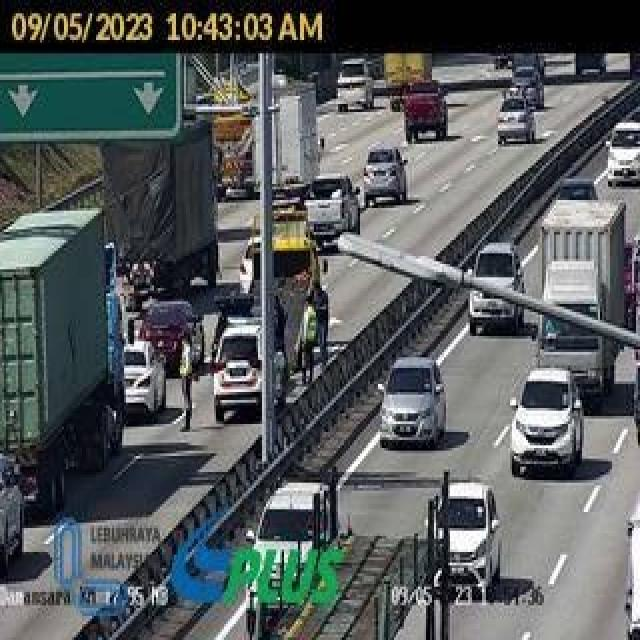Car: (242, 472, 342, 624), (208, 315, 285, 433), (512, 365, 588, 484), (428, 482, 500, 597), (377, 354, 454, 447), (463, 238, 524, 333), (142, 292, 202, 379), (299, 172, 363, 249), (114, 337, 168, 419), (362, 147, 408, 214), (335, 48, 378, 116), (604, 118, 640, 190), (3, 448, 22, 576), (503, 66, 553, 110), (494, 101, 536, 152)
Truck: (0, 202, 121, 494), (100, 110, 220, 316), (533, 199, 630, 393), (272, 82, 327, 198), (212, 86, 260, 202), (383, 48, 430, 116), (402, 85, 448, 146)
